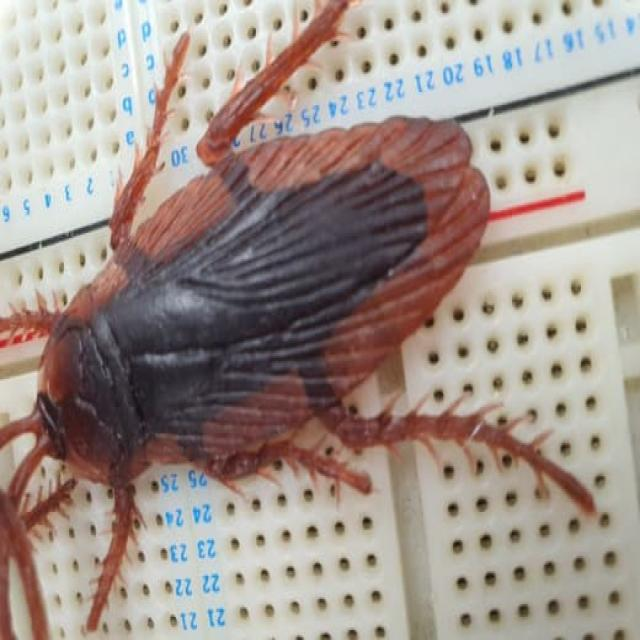Cockroach: (0, 15, 593, 640)
